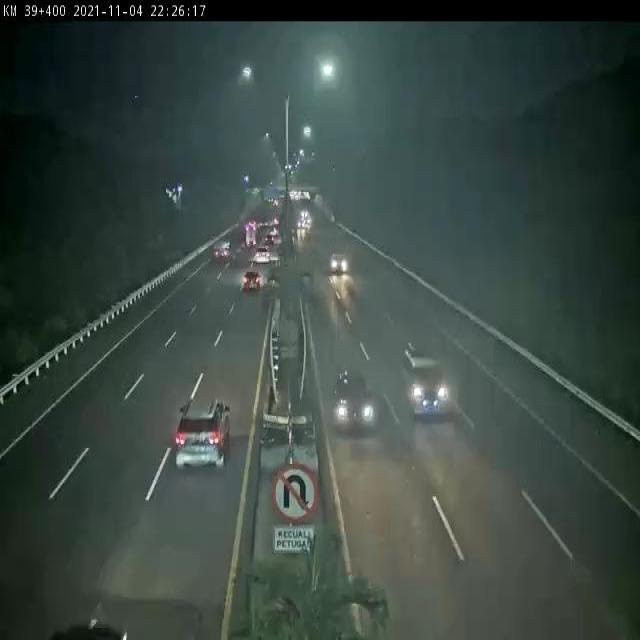car: (405, 344, 462, 441), (328, 374, 390, 449), (179, 388, 227, 473), (239, 264, 270, 301), (322, 253, 352, 284)
